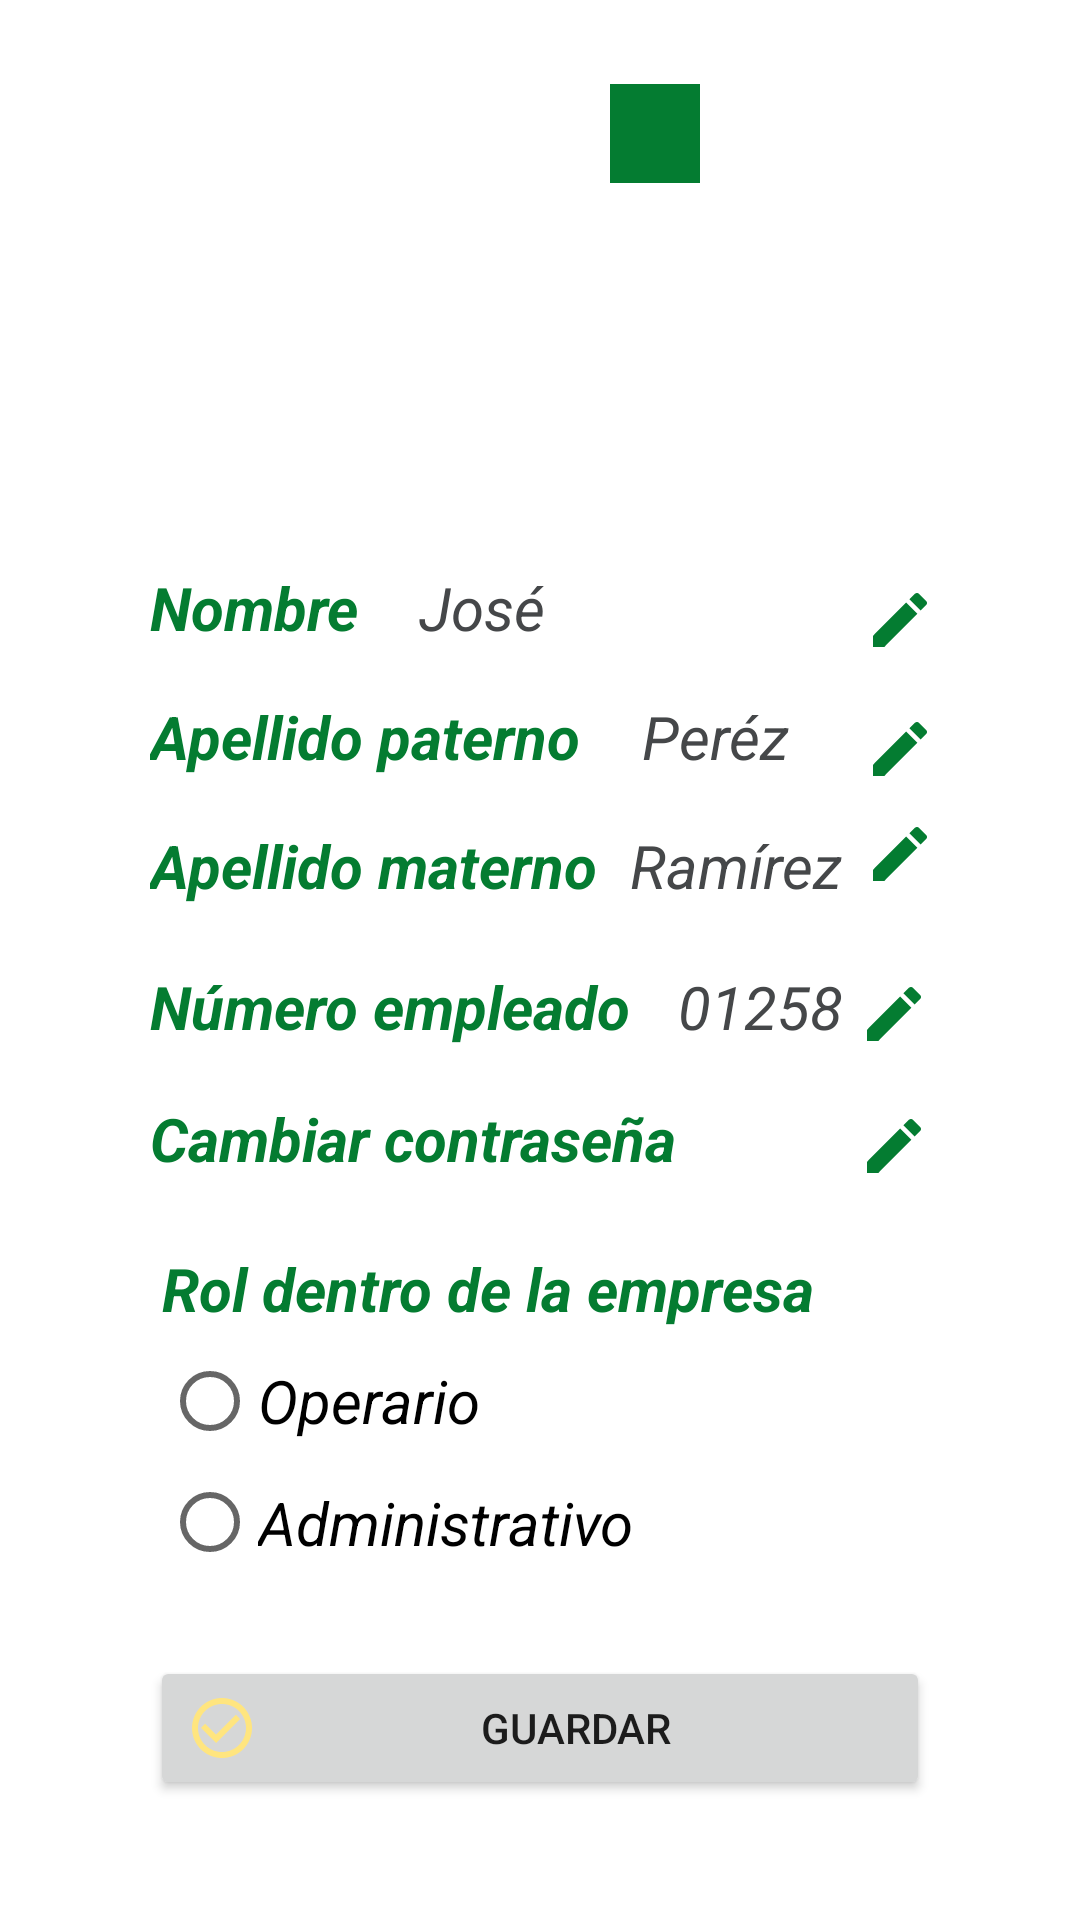

Named icons in this screenshot (1080w x 1920h) and their bounding boxes, (x1, y1, x2, y2):
edit: (873, 593, 927, 647), (873, 722, 927, 776), (873, 827, 927, 881), (867, 987, 921, 1041), (867, 1119, 921, 1173)
